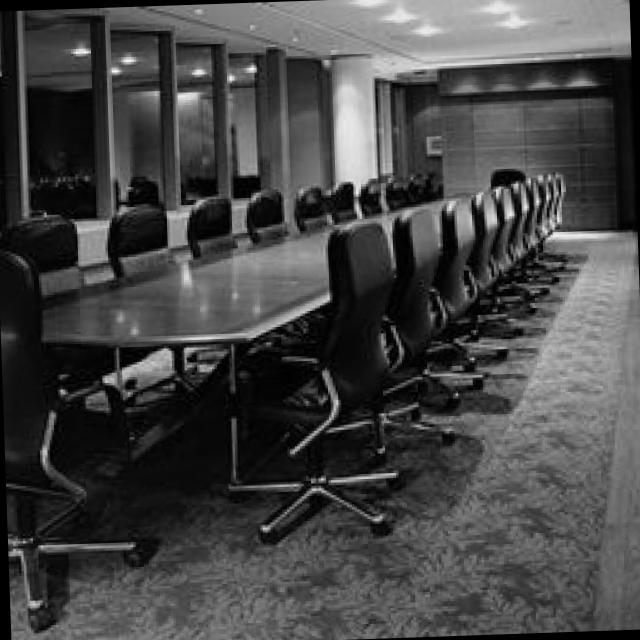2001: (0, 10, 326, 219)
cabinets: (437, 90, 614, 224)
ceiling beam: (74, 0, 628, 76)
ceiling lamps: (410, 18, 442, 39), (500, 13, 522, 33), (384, 5, 409, 22), (477, 0, 510, 11)
chair: (10, 214, 76, 307), (431, 203, 477, 318), (111, 201, 173, 270), (184, 188, 230, 262), (244, 184, 279, 242), (293, 180, 325, 231), (323, 174, 351, 217), (361, 170, 383, 206), (405, 169, 433, 196)
chair -occluded-: (231, 219, 396, 539), (330, 216, 459, 438)
conference table: (36, 191, 471, 481)
lots of chairs: (476, 169, 565, 304)
painting crop: (423, 131, 442, 153)
rug -partially obscured-: (8, 229, 635, 640)
